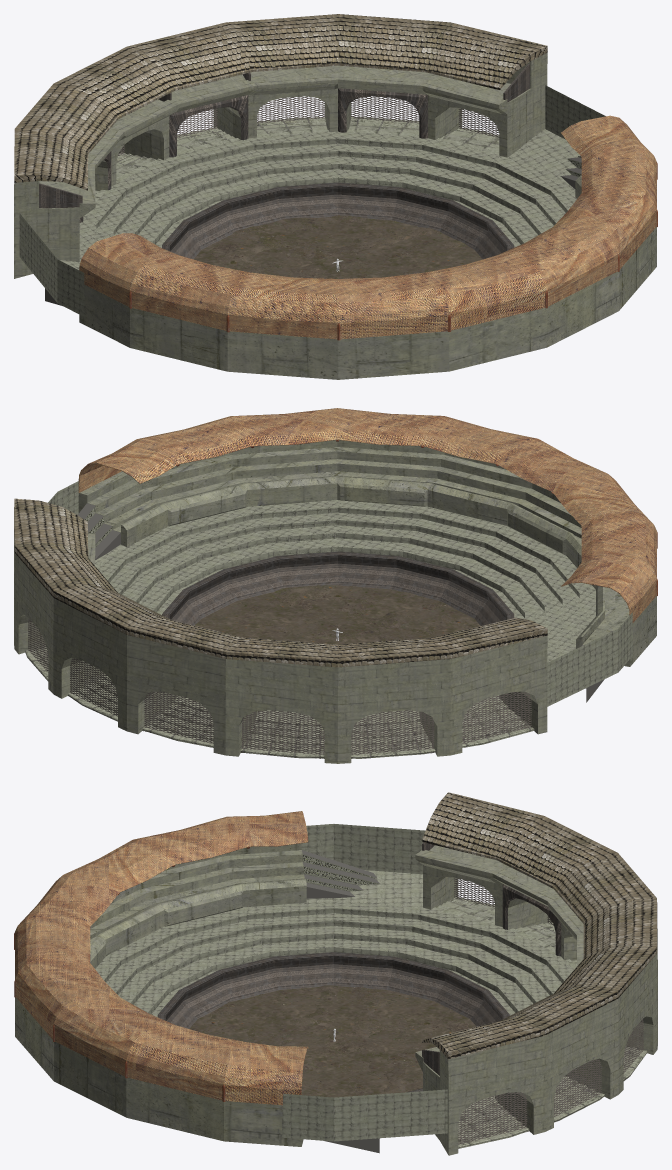
Rendered from Stadium.fbx.
The picture shows the model from 3 angles, top to bottom: view 1: azimuth 30°, elevation 25°; view 2: azimuth 150°, elevation 25°; view 3: azimuth 270°, elevation 25°; orthographic projection.
Parts seen in each view (by area): view 1: Mid Seats, Upperseats, Pit, Plane, Stairs, exit, Dividers; view 2: Mid Seats, Pit, Upperseats, exit, Stairs, Plane, Ramps; view 3: Pit, Mid Seats, Upperseats, Plane, Stairs, exit, Ramps.
Part boxes in pixels (<box>): Mid Seats: <box>79,115,656,379</box>; Upperseats: <box>14,14,547,278</box>; Pit: <box>19,85,605,316</box>; Plane: <box>208,215,469,278</box>; Stairs: <box>83,117,499,216</box>; exit: <box>118,96,499,155</box>; Dividers: <box>39,64,529,208</box>; Mid Seats: <box>78,408,656,666</box>; Pit: <box>48,481,632,721</box>; Upperseats: <box>14,498,547,763</box>; exit: <box>28,618,531,758</box>; Stairs: <box>25,646,534,758</box>; Plane: <box>194,585,478,641</box>; Ramps: <box>77,503,612,702</box>; Pit: <box>95,824,573,1141</box>; Mid Seats: <box>15,811,309,1146</box>; Upperseats: <box>415,792,657,1155</box>; Plane: <box>204,985,469,1096</box>; Stairs: <box>432,896,647,1148</box>; exit: <box>454,878,643,1144</box>; Ramps: <box>302,850,379,1153</box>.
Bounding box in the file's own units: 97.11 × 21.57 × 96.55.
